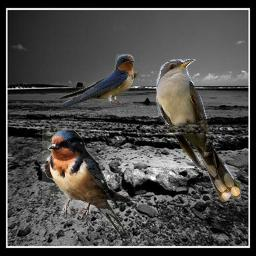Cuckoo: (156, 59, 241, 201)
Swallow: (42, 128, 129, 238), (44, 54, 139, 109)
